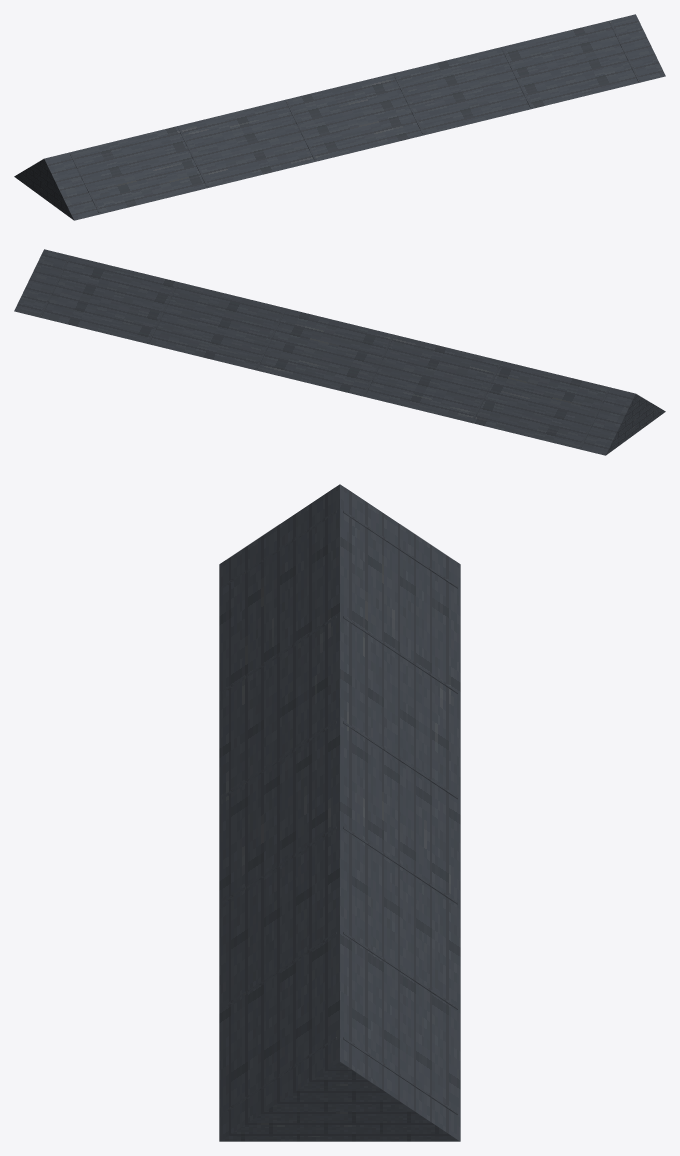
Rendered from house_03_roof_ridge.glb.
3 renders of one model, top to bottom at view 1: azimuth 30°, elevation 25°; view 2: azimuth 150°, elevation 25°; view 3: azimuth 270°, elevation 25°, orthographic. The views are drawn at different scales.
Parts seen in each view (by area): view 1: house_03_roof_ridge; view 2: house_03_roof_ridge; view 3: house_03_roof_ridge.
Boxes of the visible parts, x1,y1,x2,y2 form: house_03_roof_ridge: (14,14,665,220); house_03_roof_ridge: (14,249,665,455); house_03_roof_ridge: (219,484,460,1141).
Bounding box in the file's own units: 3.4 × 0.22 × 0.6.
1 material, 1 textured.
